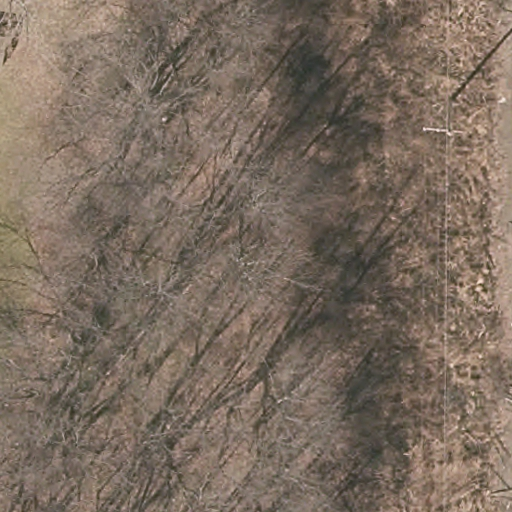DT: (422, 123, 471, 142)
